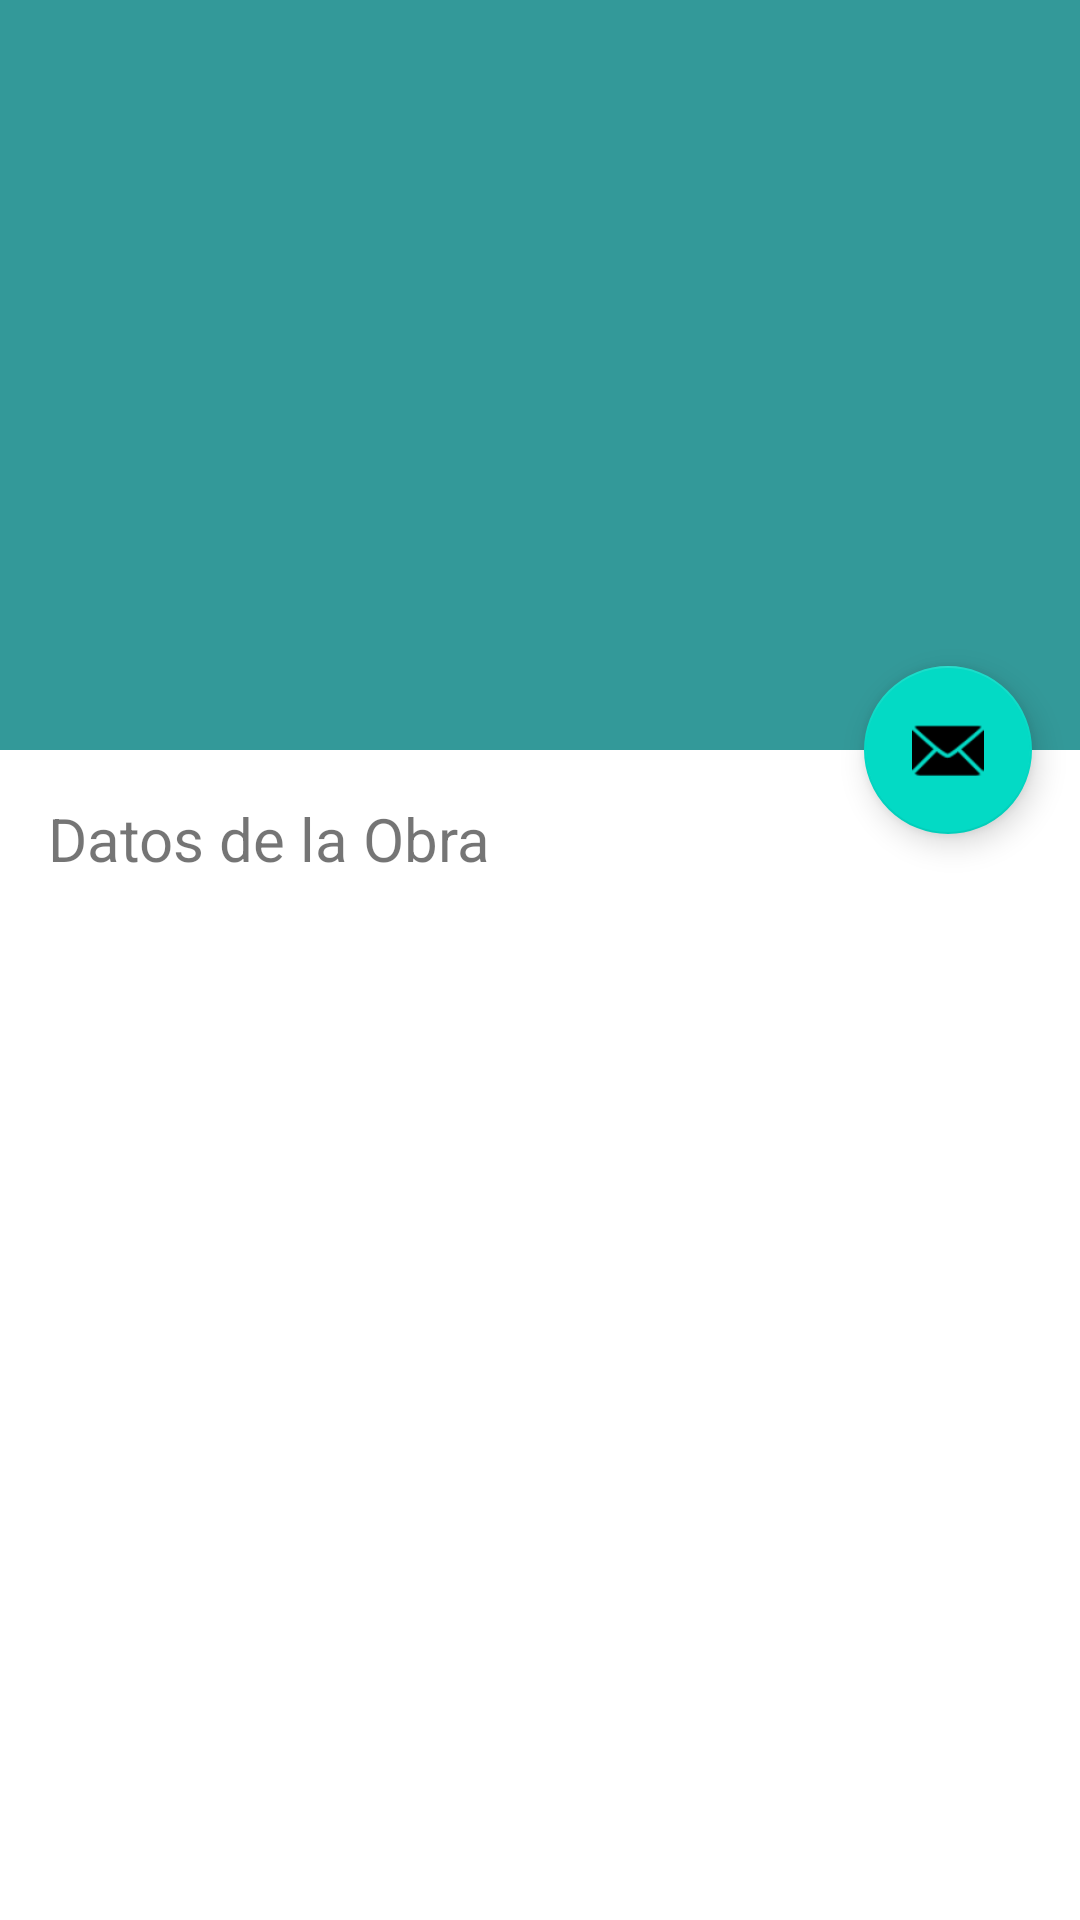

Named icons in this screenshot (1080px×1920px) and their centers, (x=x, y=y):
email: (x=948, y=750)
